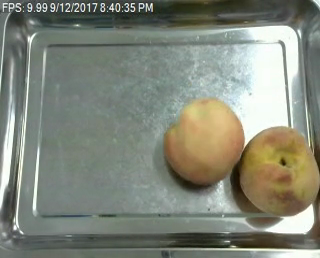Peach: (237, 124, 320, 215), (164, 97, 245, 185)
